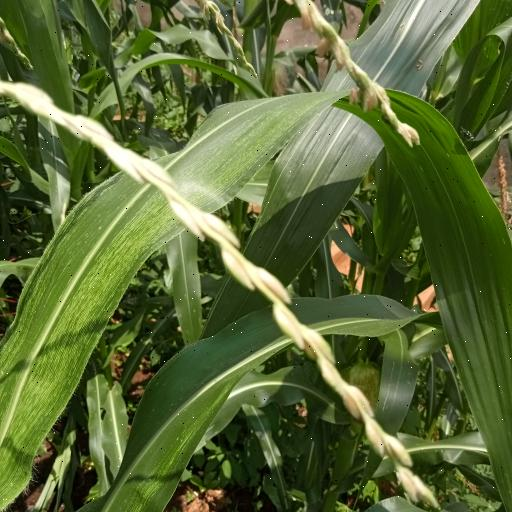Corn_Streak: (4, 85, 317, 501)
